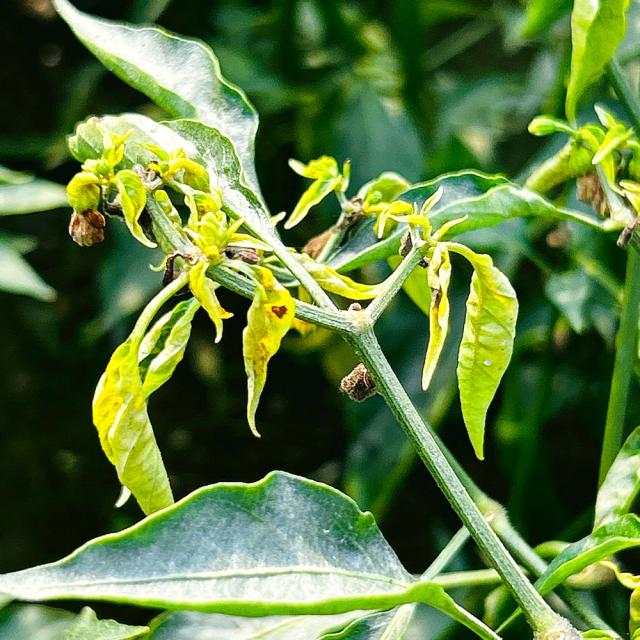Chilli_Leaf_Curl: (4, 1, 637, 638), (62, 110, 522, 514), (285, 160, 617, 460), (0, 469, 502, 638), (90, 267, 200, 516), (454, 249, 519, 461), (241, 265, 297, 438), (562, 0, 630, 128)
